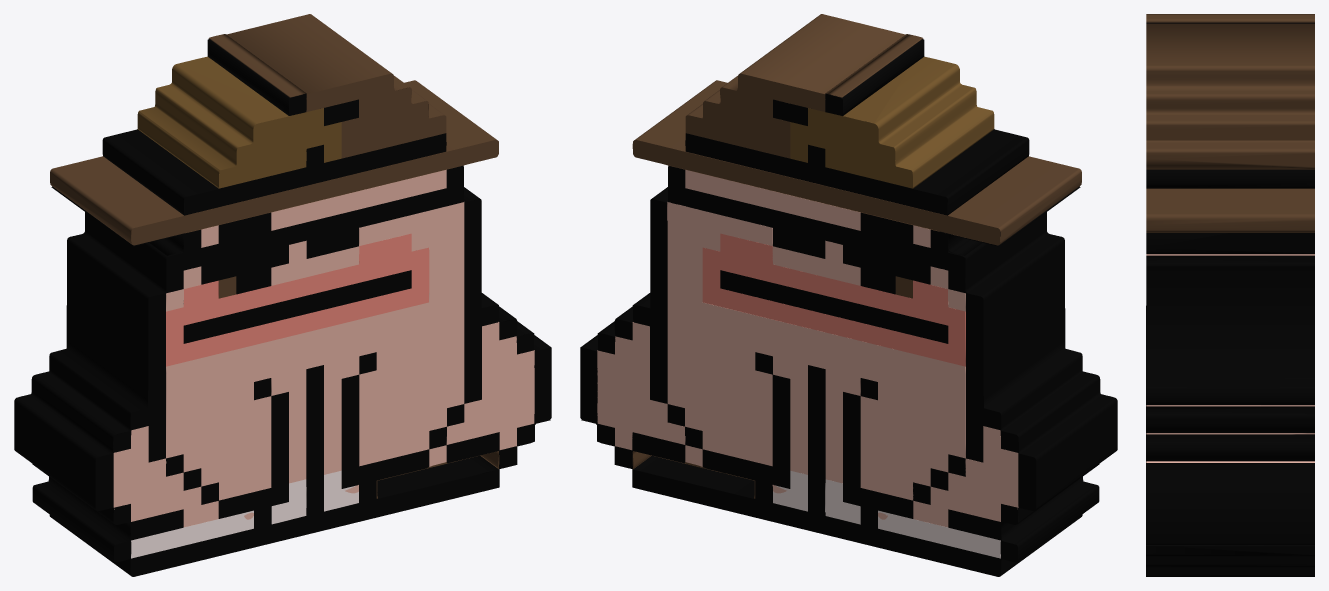
File: Toadz_3356.glb
3 views of the same model, side by side, from view 1: azimuth 30°, elevation 25°; view 2: azimuth 150°, elevation 25°; view 3: azimuth 270°, elevation 25° (orthographic). The views are drawn at different scales.
Parts seen in each view (by area): view 1: Curve; view 2: Curve; view 3: Curve.
Boxes of the visible parts, x1,y1,x2,y2 form: Curve: [14, 14, 551, 576]; Curve: [580, 14, 1117, 576]; Curve: [1146, 14, 1314, 576].
Size of the model in its own units: 3.24 by 2.99 by 1.
